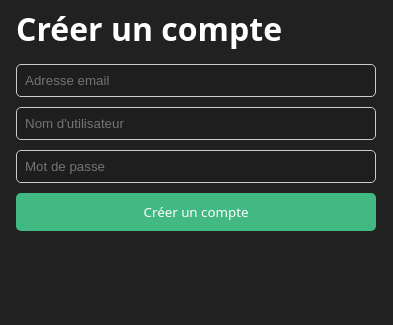
Test: Register.vue › should show error when username is empty
This screenshot has width=393, height=325.
Type "test@test.com" into the field with test id "register-email" at coordinates (196, 81), box [16,64,376,97]
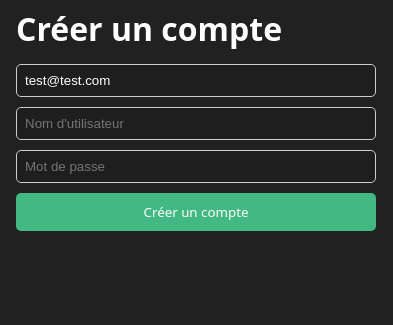
Type "test" into the password field with test id "register-password" at coordinates (196, 167), box [16,150,376,183]
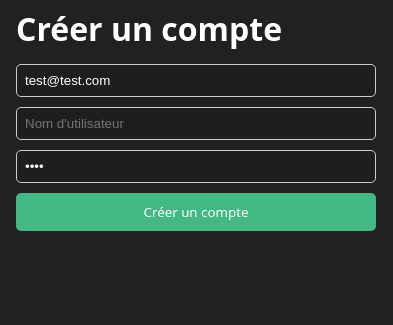
Submit the form, box [16,64,376,231]
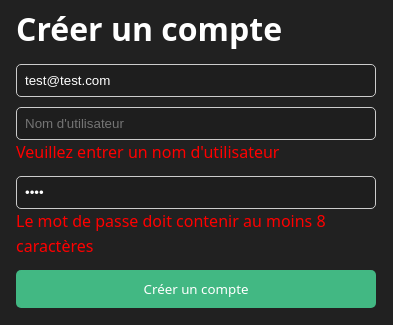
Now the text "Veuillez entrer un nom d'utilisateur" is shown, box [16,141,280,163]
